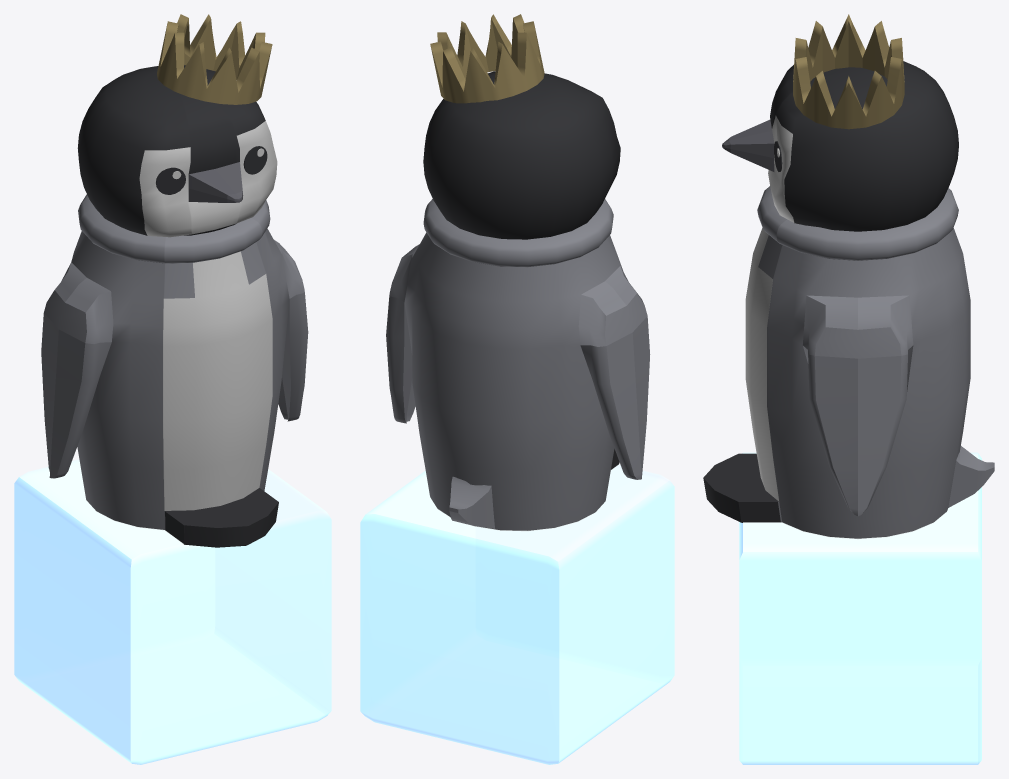
File: penguin.fbx
3 views of the same model, side by side, from view 1: azimuth 30°, elevation 25°; view 2: azimuth 150°, elevation 25°; view 3: azimuth 270°, elevation 25° (orthographic). The views are drawn at different scales.
Parts seen in each view (by area): view 1: gunter, iceCube, crown; view 2: gunter, iceCube, crown; view 3: gunter, iceCube, crown.
Part boxes in pixels (bbox=[...]): gunter: bbox=[41, 65, 308, 547]; iceCube: bbox=[14, 459, 331, 764]; crown: bbox=[157, 14, 272, 104]; gunter: bbox=[386, 71, 650, 530]; iceCube: bbox=[360, 464, 674, 764]; crown: bbox=[430, 14, 544, 103]; gunter: bbox=[703, 61, 994, 538]; iceCube: bbox=[739, 452, 981, 764]; crown: bbox=[793, 14, 904, 129].
Bounding box in the file's own units: 152 × 392 × 147.
